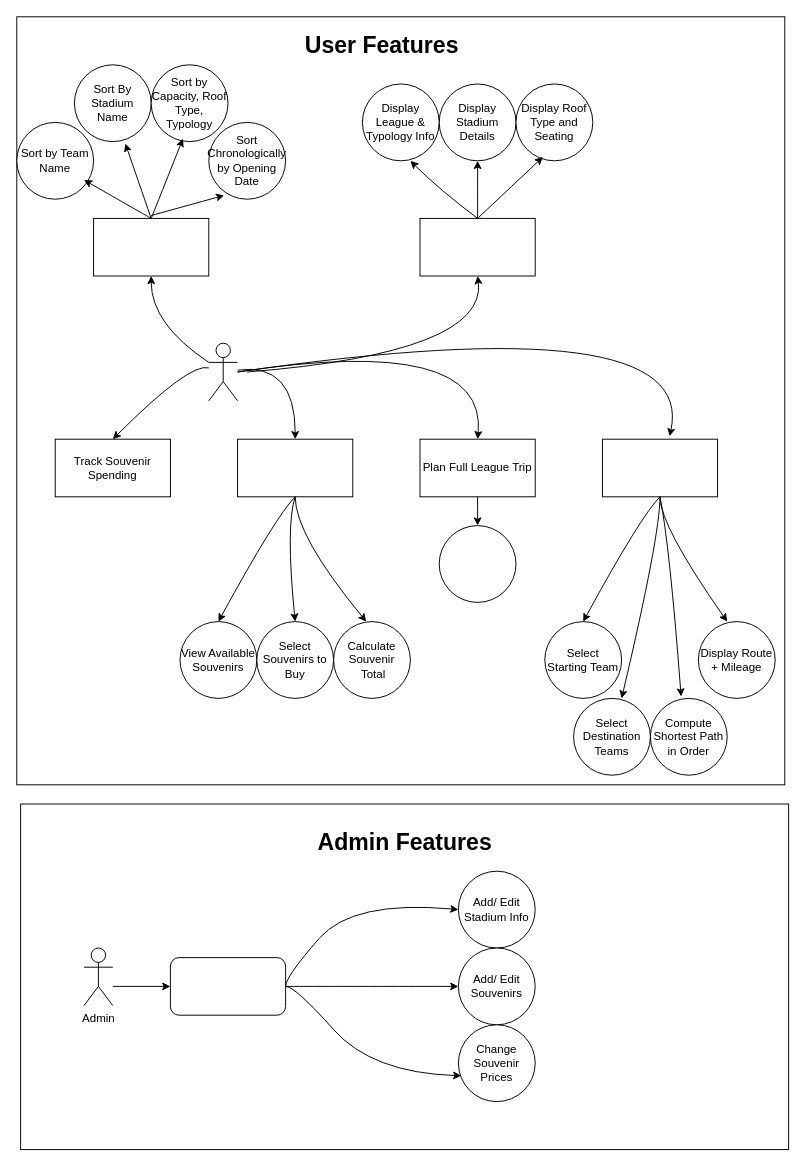
The diagram is 805 pixels wide and 1166 high, and some of its shapes have lost their labels. The shapes that lost their labels are listed below. From the top down, each one's box as (x1, y1, x2, y2) in pixels, then its label:
(93, 217, 209, 276): Sort & Display Teams/Stadiums
(419, 217, 535, 276): View Team Info
(208, 342, 238, 401): User
(237, 438, 353, 497): Buy Souvenirs
(601, 438, 718, 497): Plan Custom Vacation
(438, 525, 516, 602): View Distance Traveled
(169, 957, 286, 1015): Login as Admin
